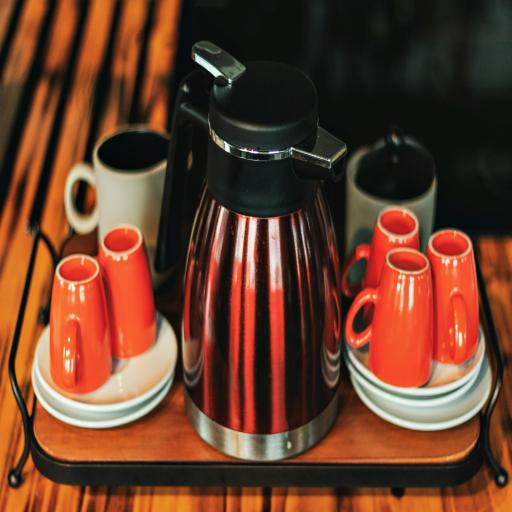phone: (346, 247, 433, 387), (342, 205, 421, 323), (50, 254, 112, 394), (99, 224, 157, 358), (425, 228, 480, 365)
